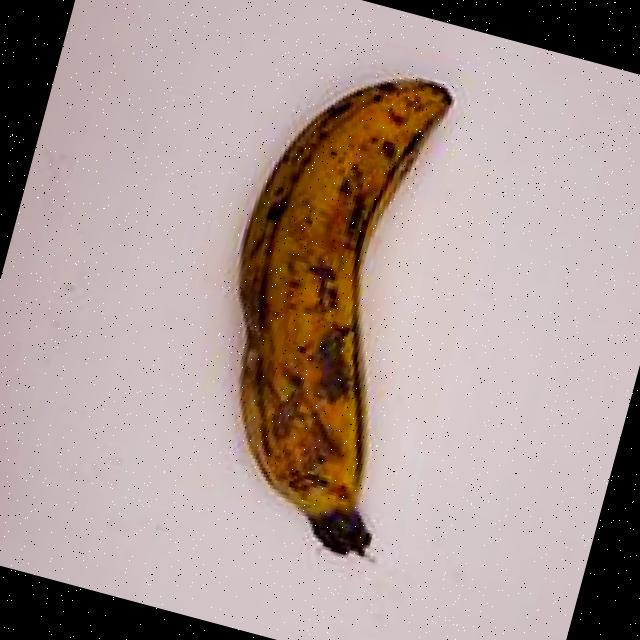Overripe: (103, 0, 542, 625)
